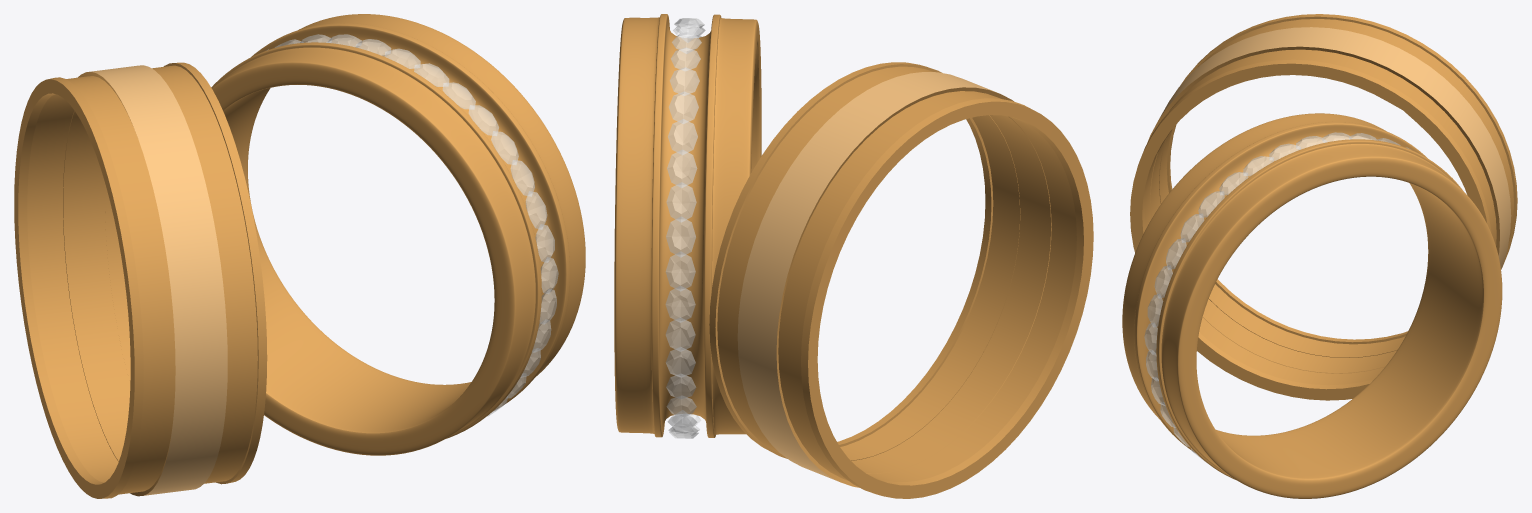
The model's file is Anillos.glb.
The picture shows the model from 3 angles, left to right: view 1: azimuth 30°, elevation 25°; view 2: azimuth 150°, elevation 25°; view 3: azimuth 270°, elevation 25°; orthographic projection. The views are drawn at different scales.
Visible parts, largest first — view 1: Anillo Hombre, Anillo Mujer, Diamond; view 2: Anillo Hombre, Anillo Mujer, Diamond; view 3: Anillo Mujer, Anillo Hombre, Diamond.
Boxes of the visible parts, left/top/right/bottom form: Anillo Hombre: left=14, top=62, right=267, bottom=498; Anillo Mujer: left=211, top=14, right=585, bottom=455; Diamond: left=267, top=34, right=558, bottom=416; Anillo Hombre: left=709, top=62, right=1093, bottom=498; Anillo Mujer: left=614, top=14, right=761, bottom=437; Diamond: left=665, top=18, right=705, bottom=438; Anillo Mujer: left=1122, top=113, right=1502, bottom=498; Anillo Hombre: left=1130, top=14, right=1517, bottom=400; Diamond: left=1144, top=132, right=1410, bottom=460.
Size of the model in its own units: 1.66 by 1.35 by 1.41.
